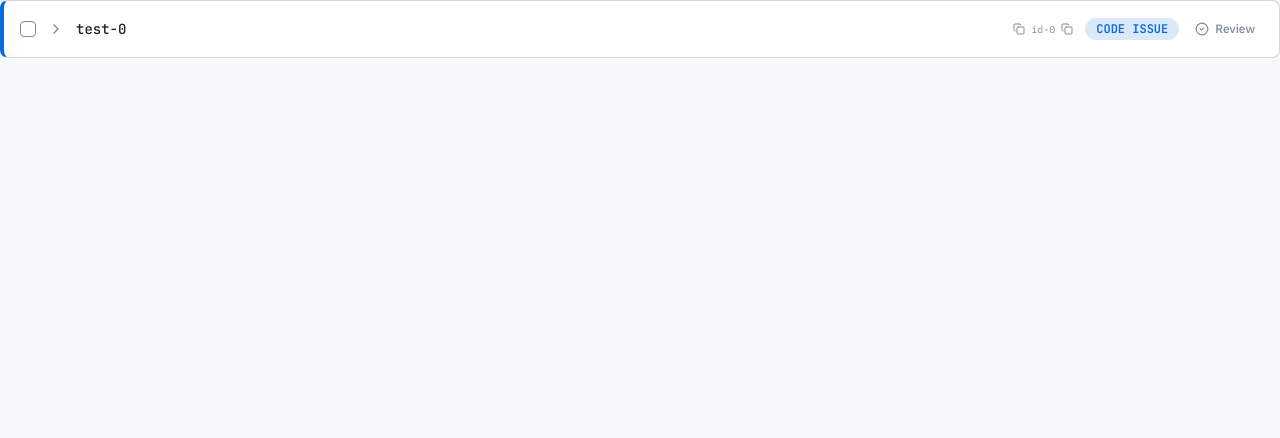
Test: FailureCard primary usage › shows attributed tokens and cost for a single failure
This screenshot has width=1280, height=438.
Step 1. Click the button "test-0" → (101, 29), box [48,19,1001,39]
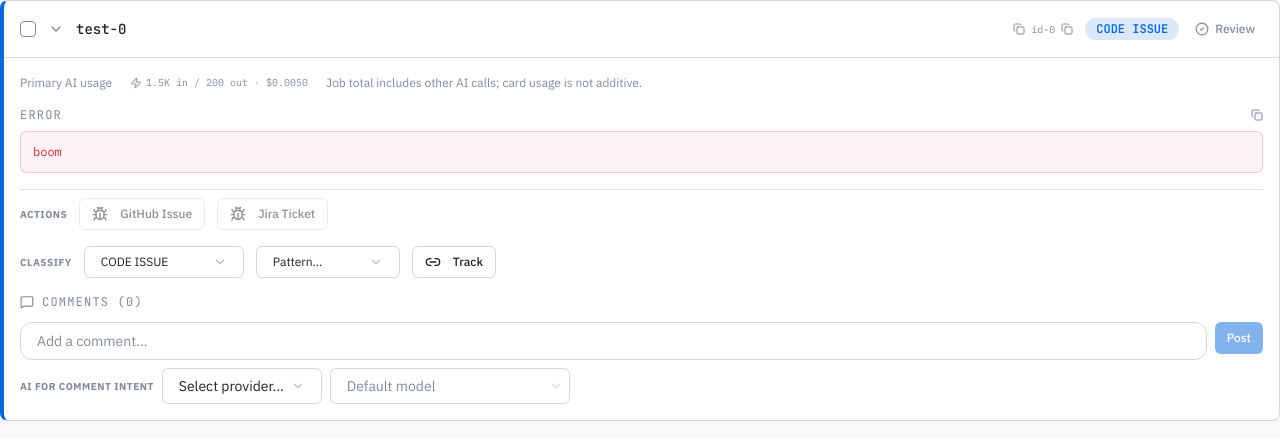
Result: the text "Primary AI usage" is shown at [20,75,112,91]
Result: the text "1.5K in / 200 out · $0.0050" is shown
Step 2. Hover over the text "1.5K in / 200 out · $0.0050" → (219, 83), box [120,74,318,91]
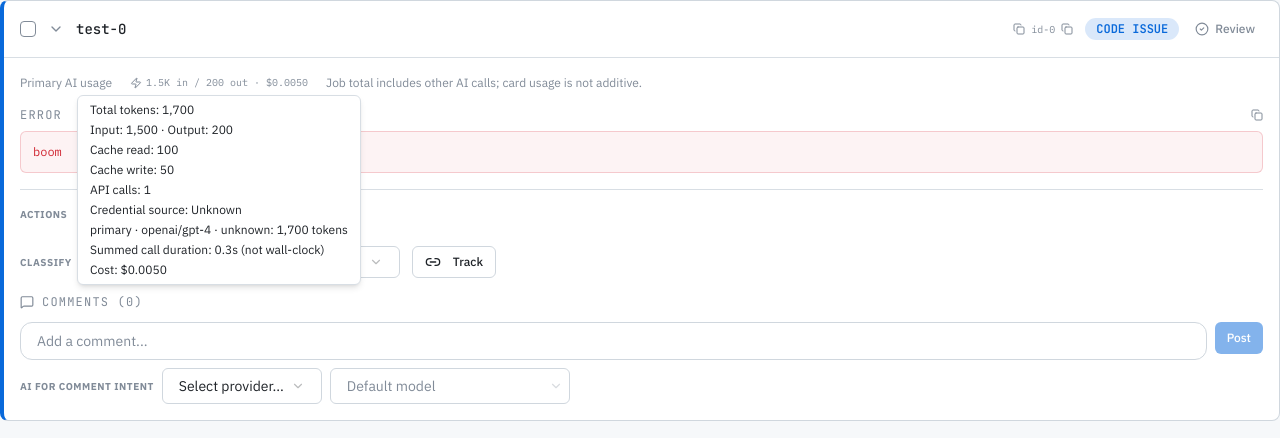
Result: the text "Cache read: 100" is shown at [90,142,178,157]
Result: the text "Cache write: 50" is shown at [90,162,174,177]
Result: the text "Total tokens: 1,700" is shown at [90,102,194,117]
